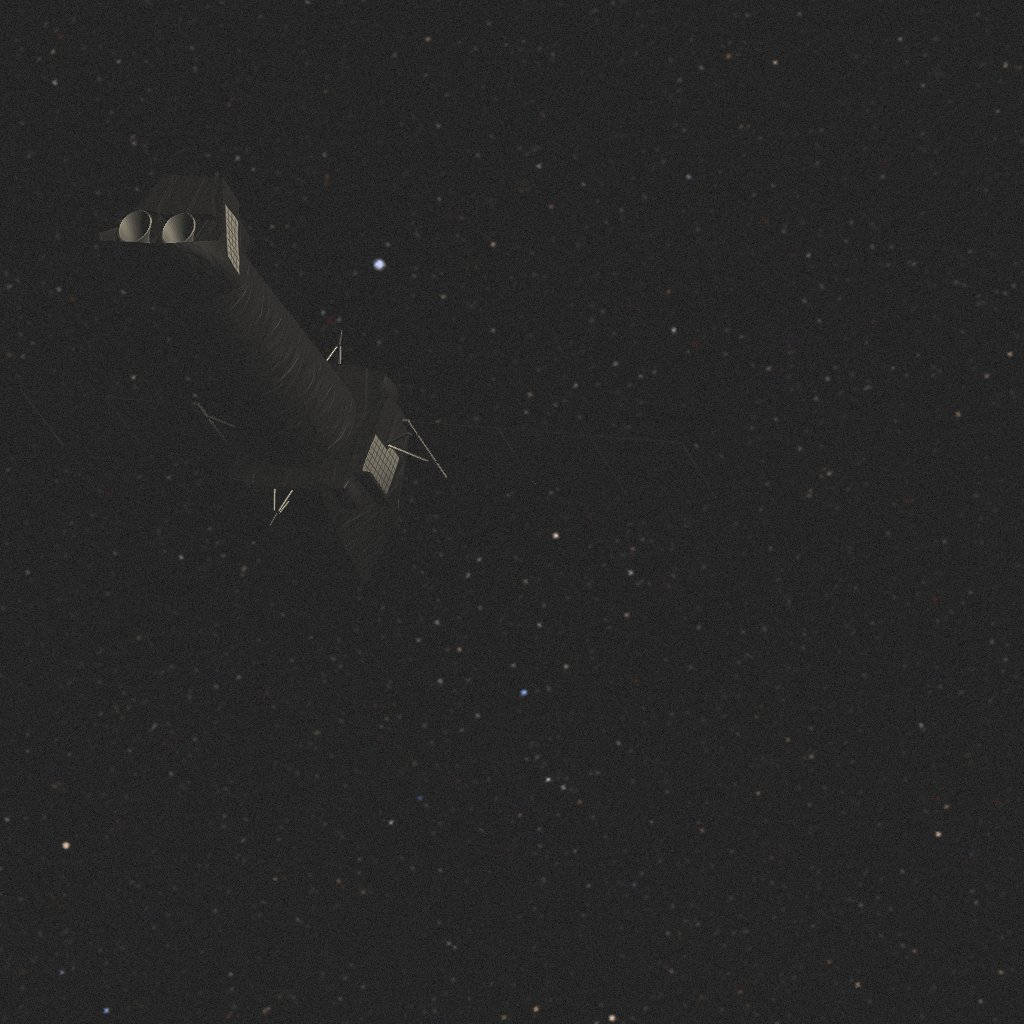xmm_newton: (0, 174, 718, 585)
